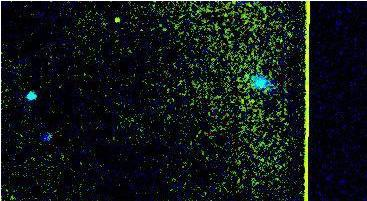star: (98, 7, 128, 37)
